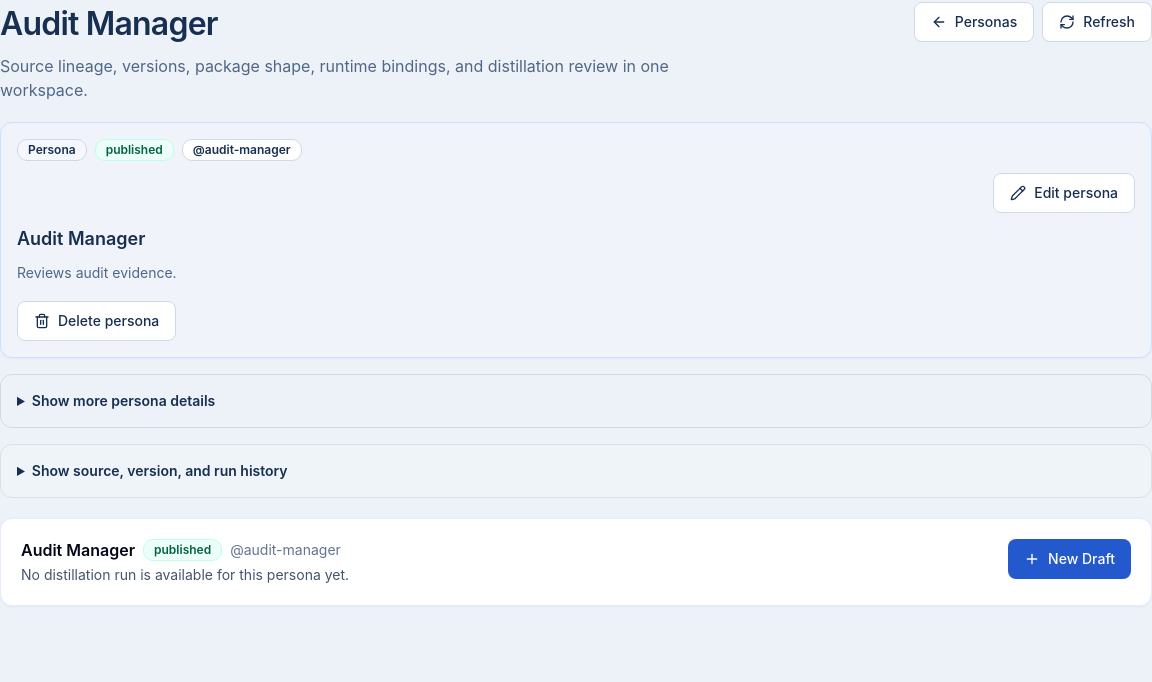
PersonaFactoryWorkspace › shows persona details inline on the dedicated detail page
This screenshot has width=1152, height=682.
Check: the heading "Show more persona details" is shown, box [32,392,215,409]
Click the button "Edit persona".
click(1064, 193)  # box [993,173,1135,213]
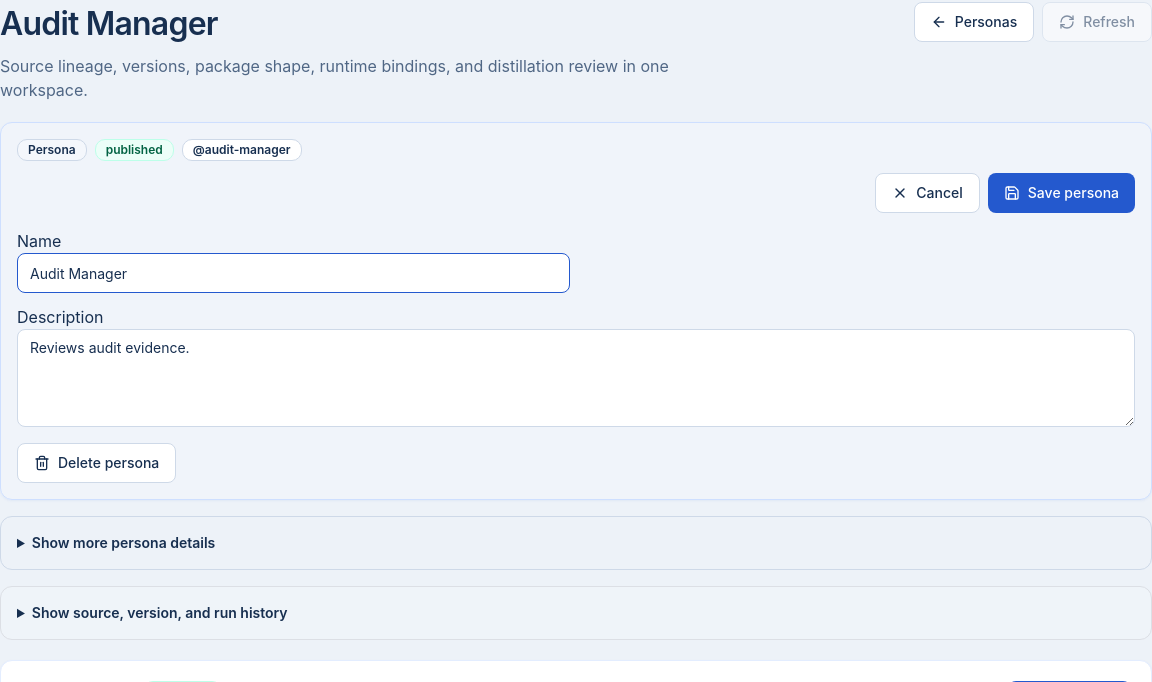
Check: the field labelled "Name" holds "Audit Manager", box [17,253,570,293]
